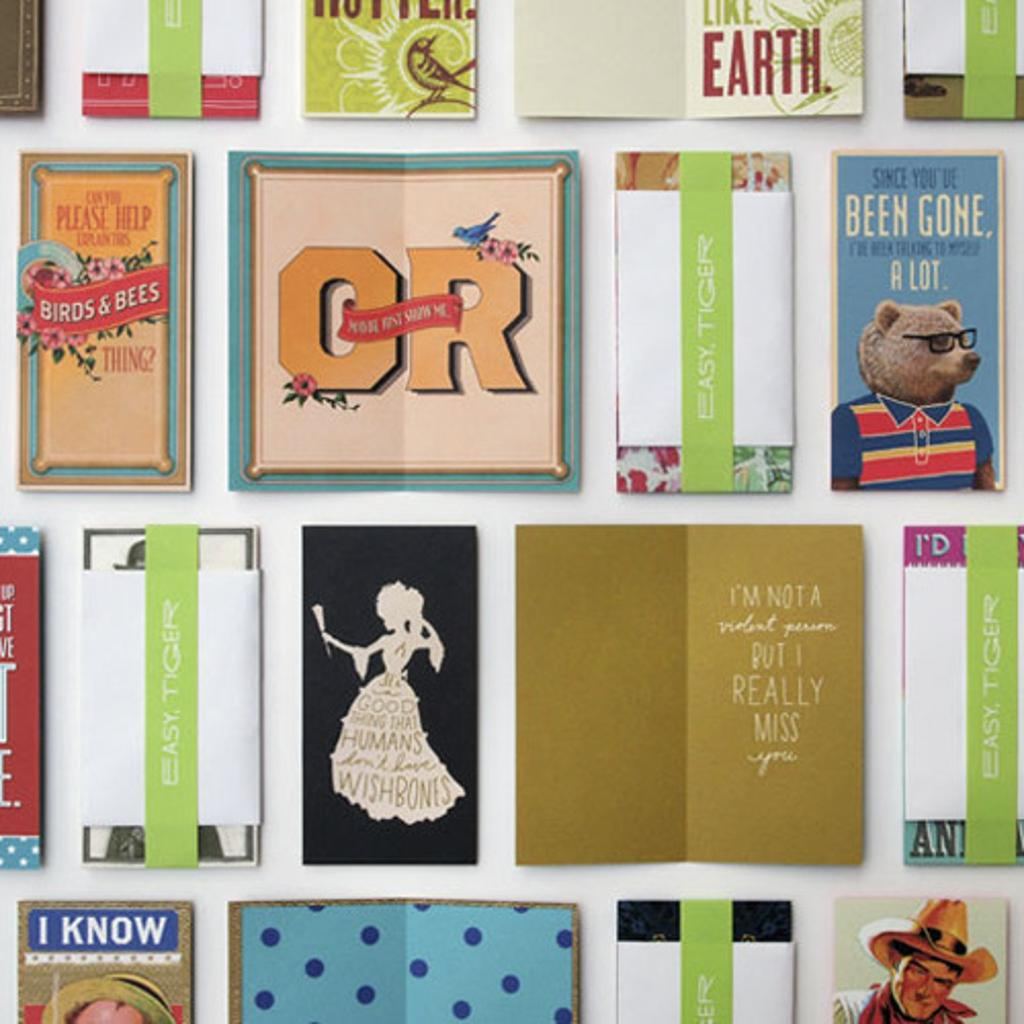face: (900, 942, 958, 1018)
